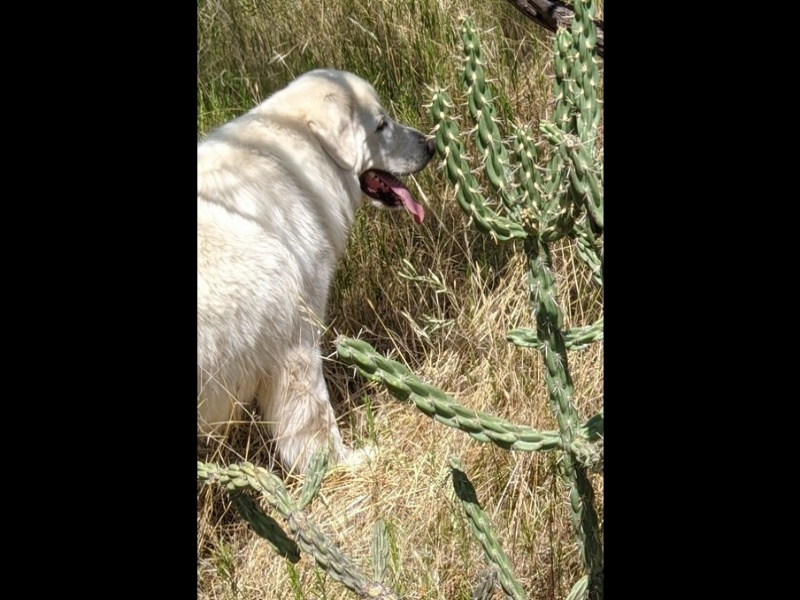dog: (199, 57, 442, 504)
